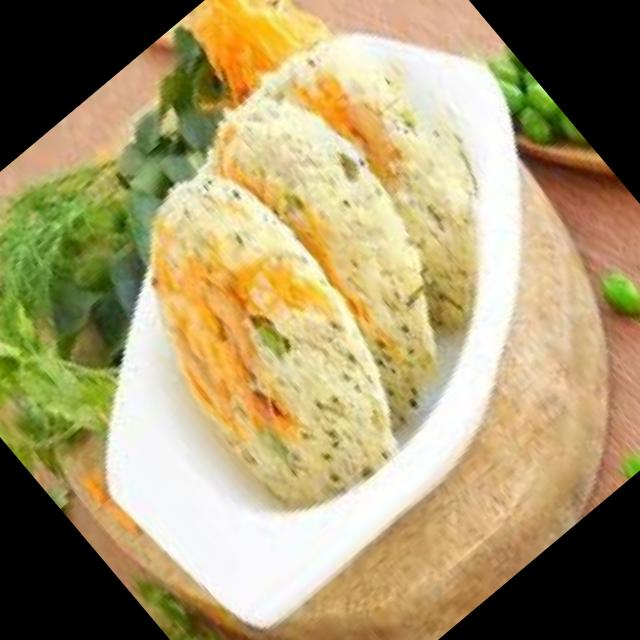idli: (80, 148, 445, 532), (165, 59, 516, 436), (247, 14, 556, 343)
